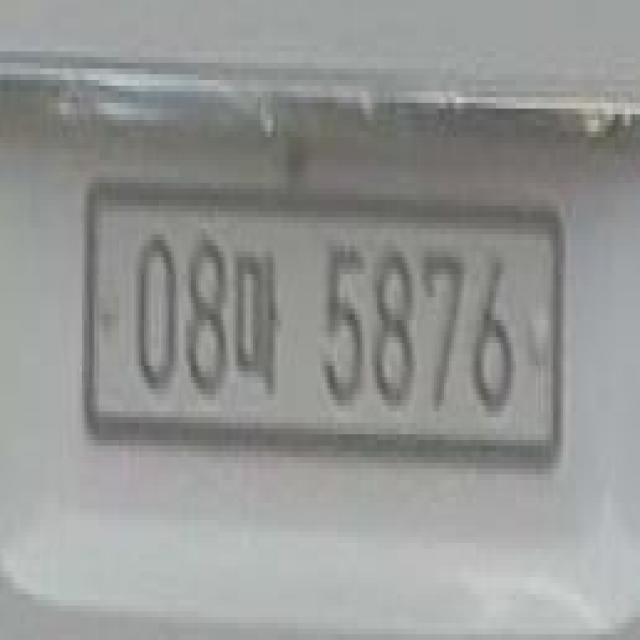illegal_plate: (86, 172, 565, 495)
